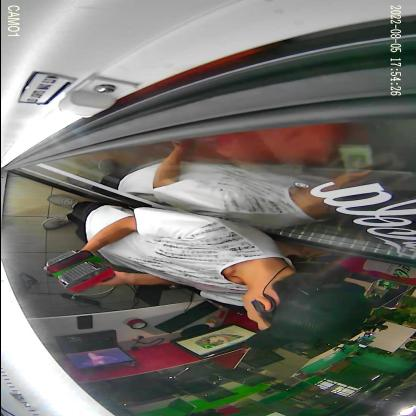green: (42, 250, 103, 278)
red: (56, 262, 115, 294)
